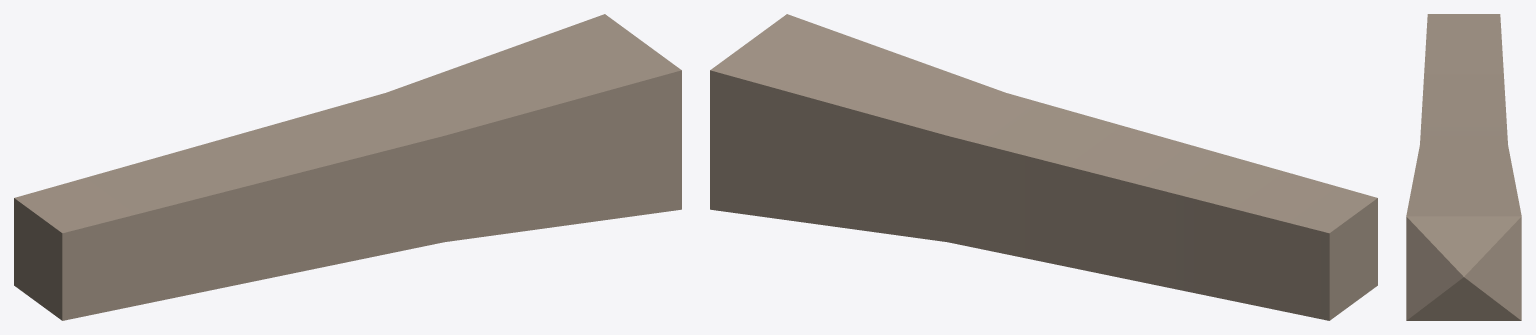
Rendered from Roof_Accent_Ridge_End.glb.
3 renders of one model, left to right at view 1: azimuth 30°, elevation 25°; view 2: azimuth 150°, elevation 25°; view 3: azimuth 270°, elevation 25°, orthographic. The views are drawn at different scales.
Visible parts, largest first — view 1: object1; view 2: object1; view 3: object1.
Boxes of the visible parts, bbox=[...] form: object1: bbox=[14, 14, 681, 320]; object1: bbox=[710, 14, 1377, 320]; object1: bbox=[1406, 14, 1521, 320].
Bounding box in the file's own units: 1.5 × 0.3181 × 0.3181.
